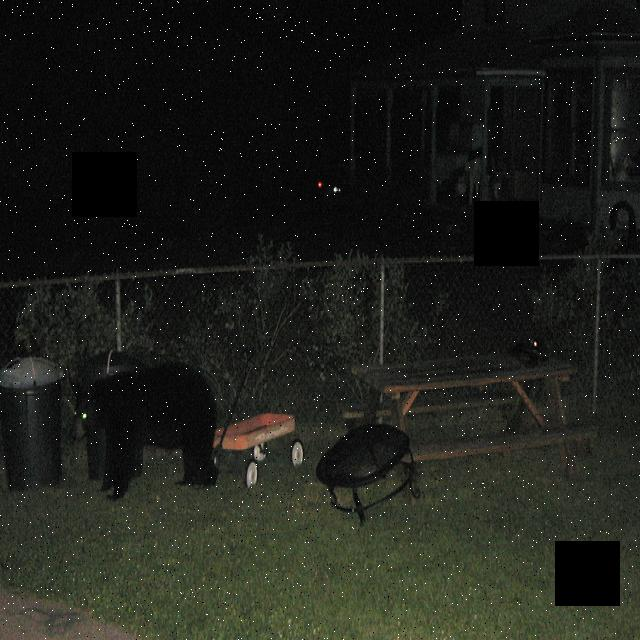Bear: (65, 360, 223, 484)
